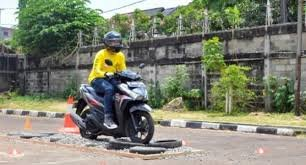motor: (74, 74, 161, 140)
